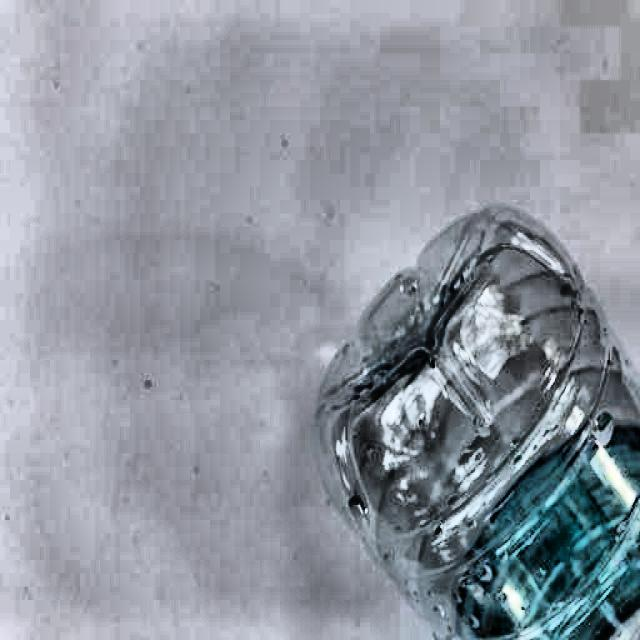plastic: (314, 201, 640, 640)
